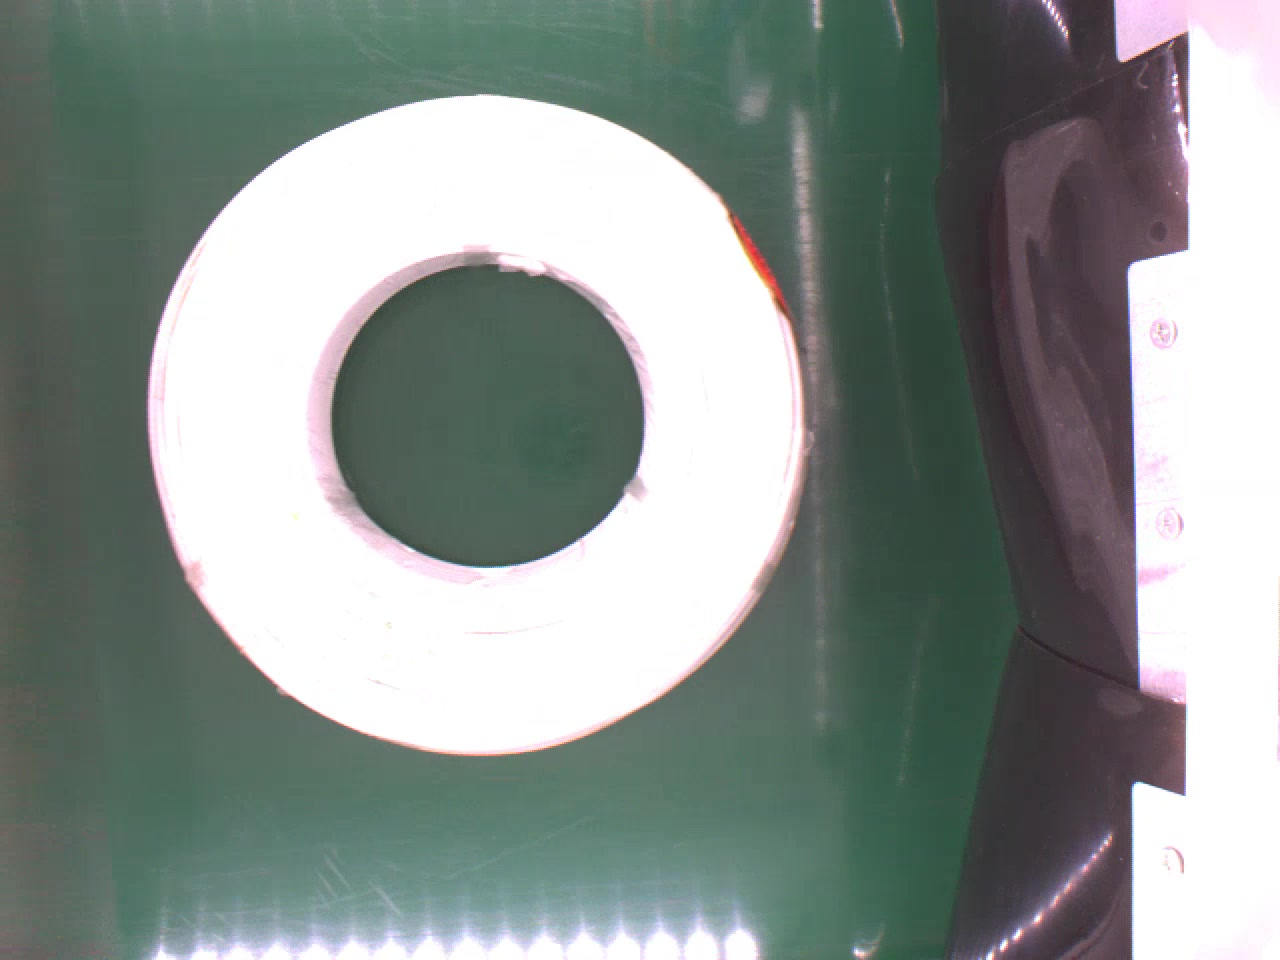white: (143, 94, 812, 757)
